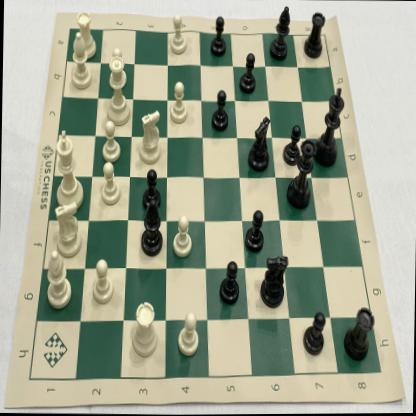black-bishop: (136, 197, 166, 258), (268, 1, 292, 62)
black-king: (314, 84, 346, 168)
black-knight: (258, 251, 288, 309), (245, 114, 272, 175)
black-pawn: (299, 310, 326, 358), (240, 207, 266, 256), (218, 258, 240, 307), (208, 14, 229, 59), (210, 87, 230, 134), (141, 168, 161, 213), (238, 51, 257, 97), (282, 123, 300, 169)
black-queen: (284, 140, 316, 217)
black-rook: (341, 304, 375, 363), (302, 10, 327, 61)
white-bishop: (44, 250, 74, 309), (68, 32, 94, 91)
white-king: (52, 128, 84, 211)
white-knight: (52, 201, 84, 259), (138, 110, 162, 166)
white-pawn: (174, 310, 200, 360), (90, 257, 115, 306), (98, 159, 122, 207), (168, 78, 190, 126), (172, 212, 193, 260), (167, 11, 188, 57), (101, 119, 122, 165), (107, 47, 128, 89)
white-queen: (103, 55, 133, 127)
white-rook: (130, 299, 159, 360), (75, 10, 97, 60)
